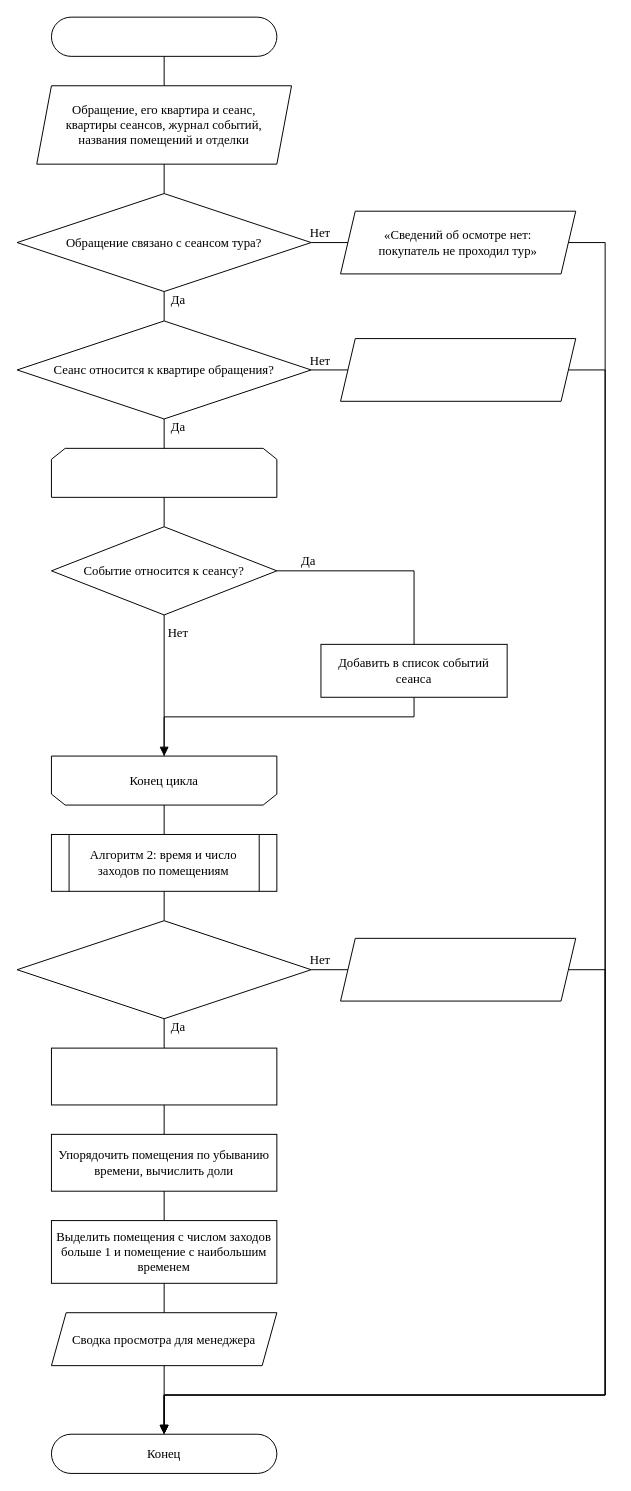
The diagram is 631 pixels wide and 1491 high, and some of its shapes have lost their labels. Here are the shapes that lost their labels. From the top down, the box of each, then its label:
(50, 16, 277, 56): Начало
(340, 338, 576, 401): «Сведений об осмотре нет: сеанс другой квартиры»
(50, 447, 277, 497): Для каждого события журнала
(16, 920, 311, 1019): Посещено хотя бы одно помещение?
(340, 937, 576, 1001): «Сведений об осмотре нет: не посещено ни одно помещение»
(50, 1047, 277, 1105): Найти последний выбранный вариант отделки в каждом помещении
